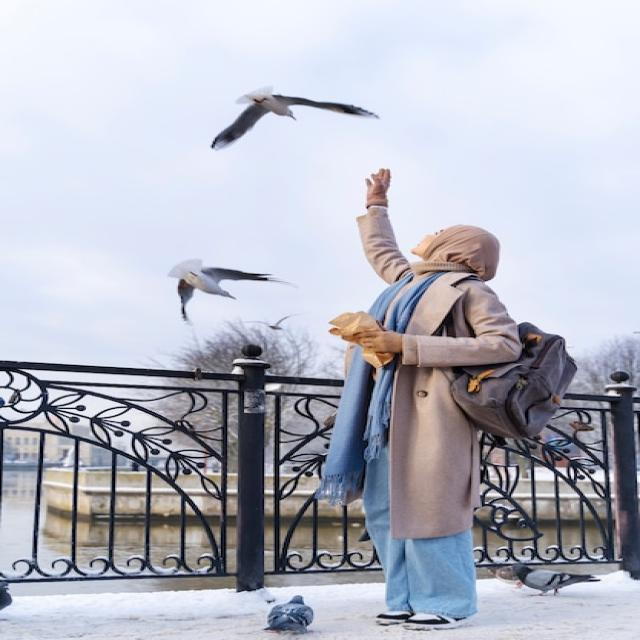Person: (318, 166, 578, 628)
